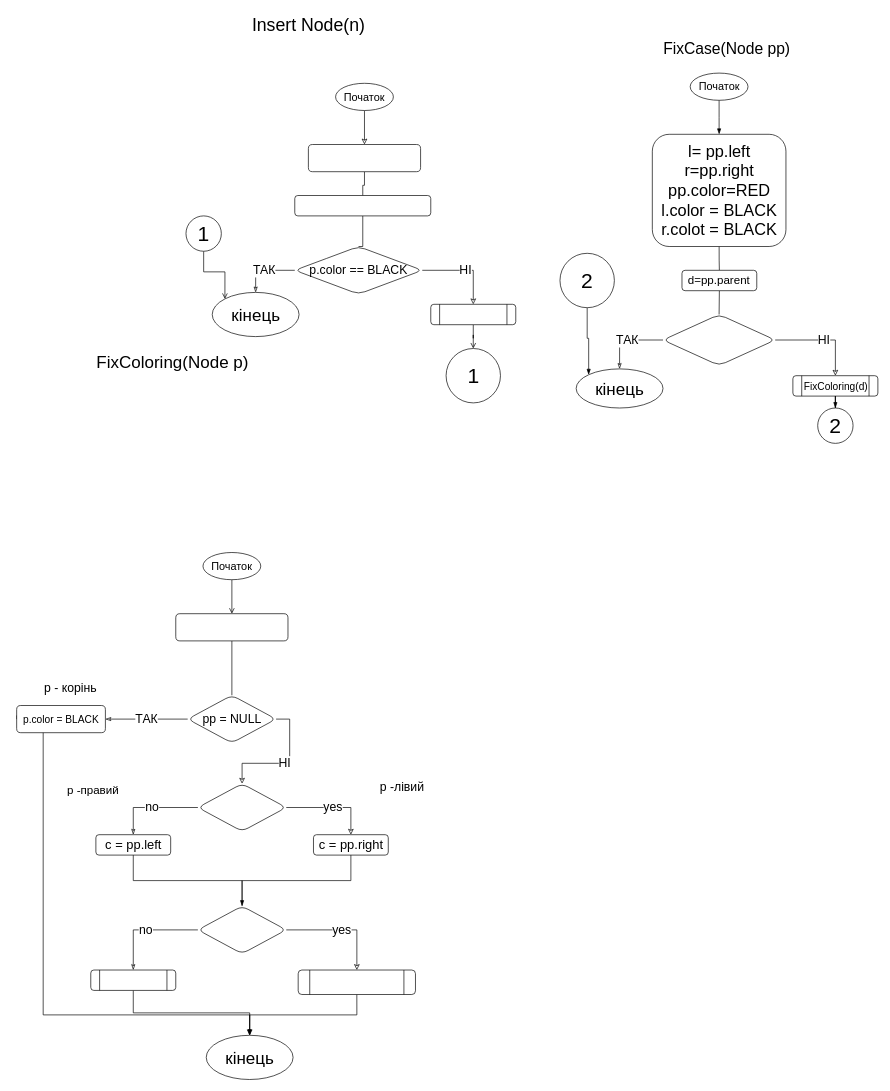
The diagram is 890 pixels wide and 1091 high, and some of its shapes have lost their labels. The centre of each missing label's shape, as x and y in pixels:
c==NULL: pixel 241 929
d.color == BLACK: pixel 718 340
FixColoring(p): pixel 473 314
FixColoring(pp): pixel 133 979
n.Color = RED: pixel 364 158
p=n.parent: pixel 362 205
pp.left ==p: pixel 241 807
pp=p.parent: pixel 231 627
простий поворот: pixel 356 982
